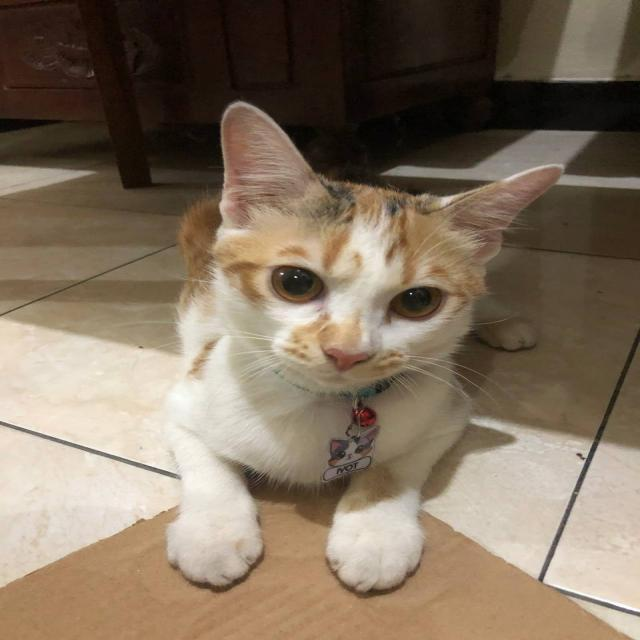da khoe manh: (172, 267, 302, 391)
